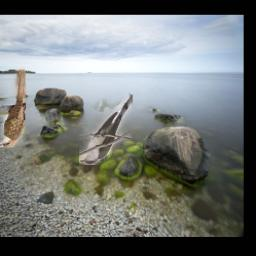Cuckoo: (79, 94, 133, 166), (0, 68, 26, 148)
